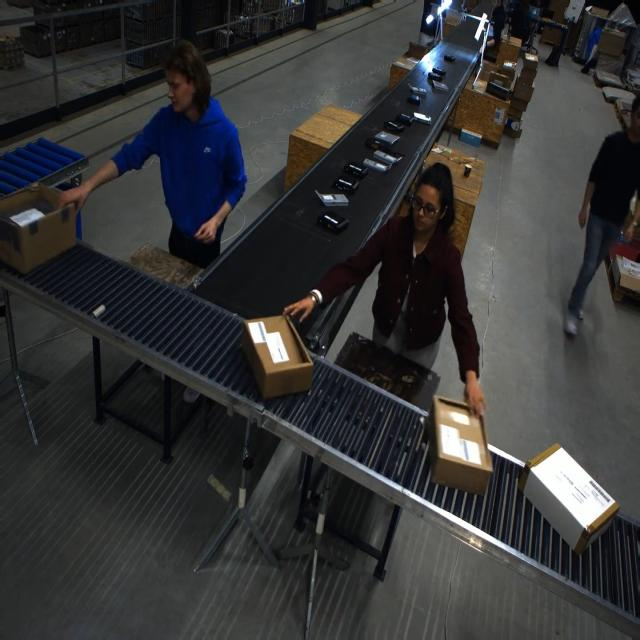box: (517, 441, 620, 552), (1, 181, 78, 273), (425, 397, 491, 490), (240, 315, 312, 400), (606, 253, 640, 307), (597, 28, 625, 56), (517, 58, 537, 86), (407, 41, 430, 59), (588, 6, 609, 18)
product: (317, 213, 349, 234), (315, 190, 347, 207), (333, 175, 360, 194), (364, 136, 395, 152), (372, 150, 400, 165), (362, 158, 390, 173), (344, 162, 368, 178), (384, 120, 405, 133), (395, 112, 413, 126), (413, 112, 431, 124), (431, 80, 448, 92), (407, 85, 427, 95), (406, 94, 421, 105), (428, 71, 443, 81), (432, 66, 445, 75), (443, 54, 456, 62)
